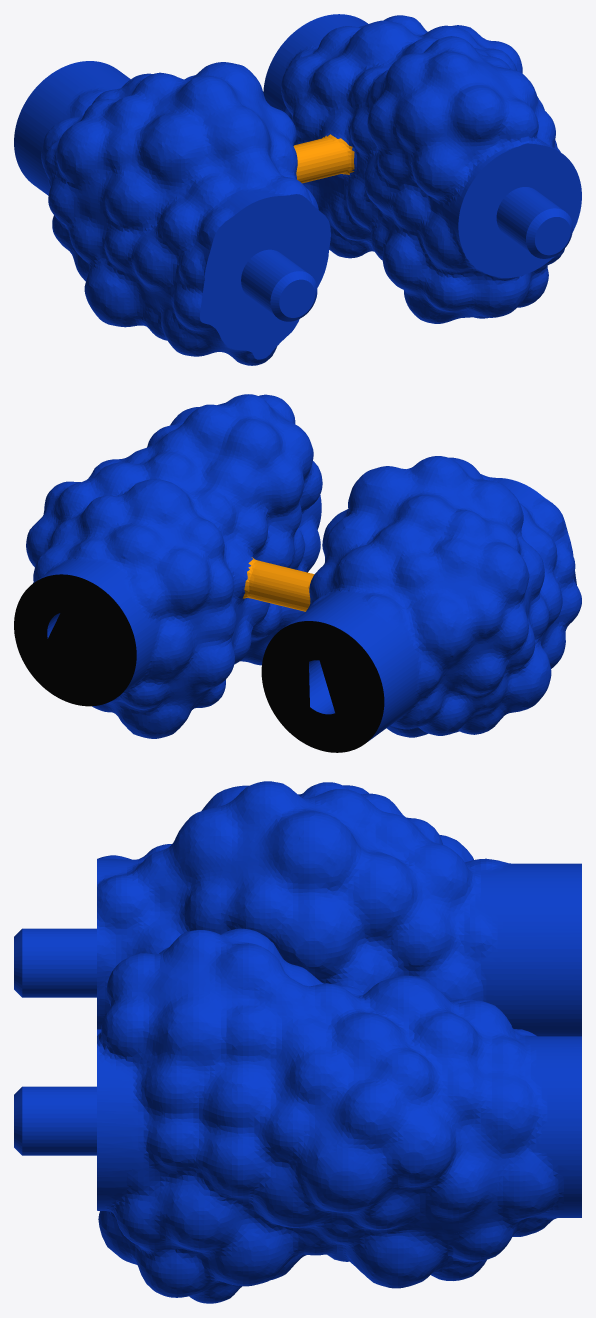
File: IgG_part2_fc.obj
3 views of the same model, one above another, from view 1: azimuth 30°, elevation 25°; view 2: azimuth 150°, elevation 25°; view 3: azimuth 270°, elevation 25° (orthographic). The views are drawn at different scales.
Parts seen in each view (by area): view 1: IgG_part2_fc; view 2: IgG_part2_fc; view 3: IgG_part2_fc.
Boxes of the visible parts, box(x1,y1,x2,y2) form: IgG_part2_fc: box(14, 14, 581, 365); IgG_part2_fc: box(14, 394, 581, 752); IgG_part2_fc: box(14, 781, 581, 1303).
Size of the model in its own units: 51.23 by 28.69 by 41.08.
